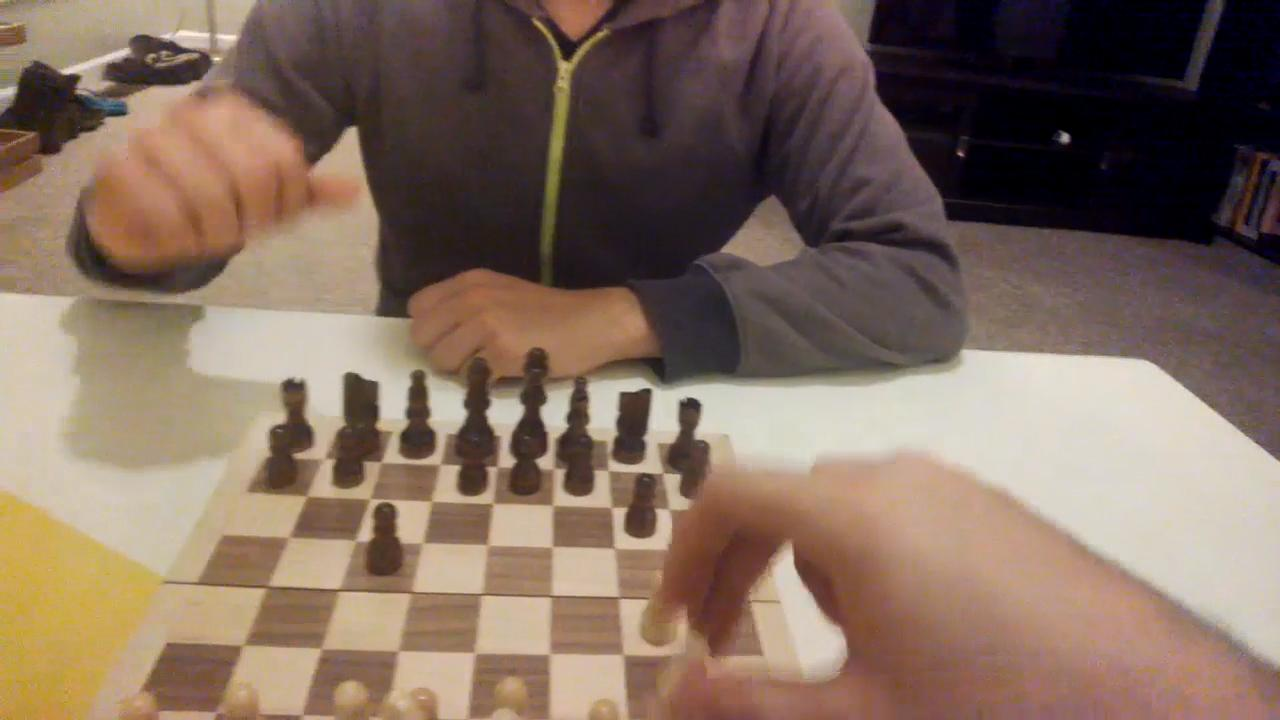hand: (648, 445, 1143, 720), (83, 89, 371, 281), (398, 266, 614, 390)
